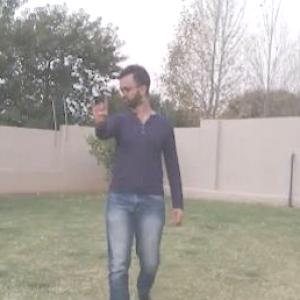takeoff-hand: (81, 82, 113, 132)
